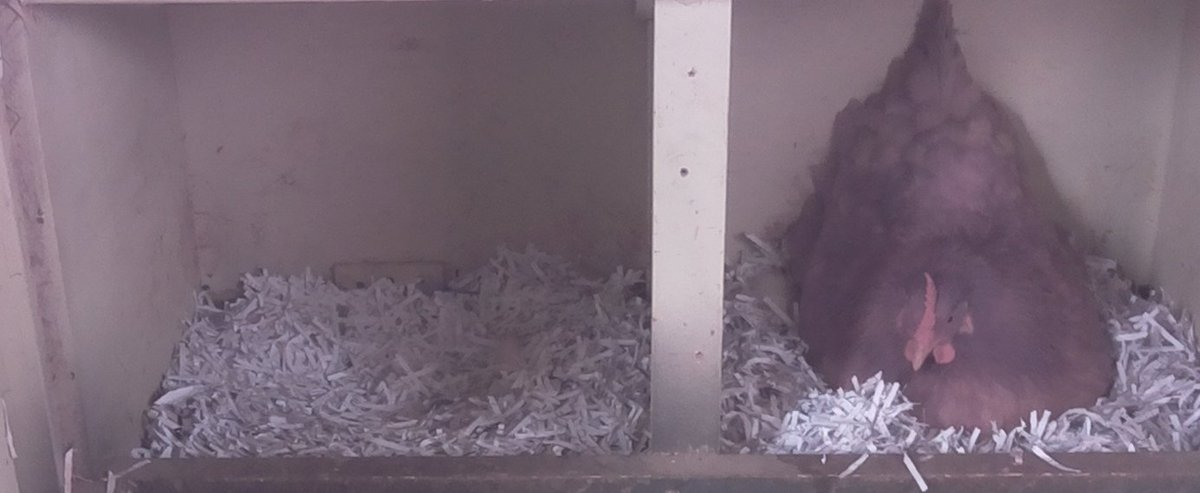hen: (788, 6, 1124, 444)
